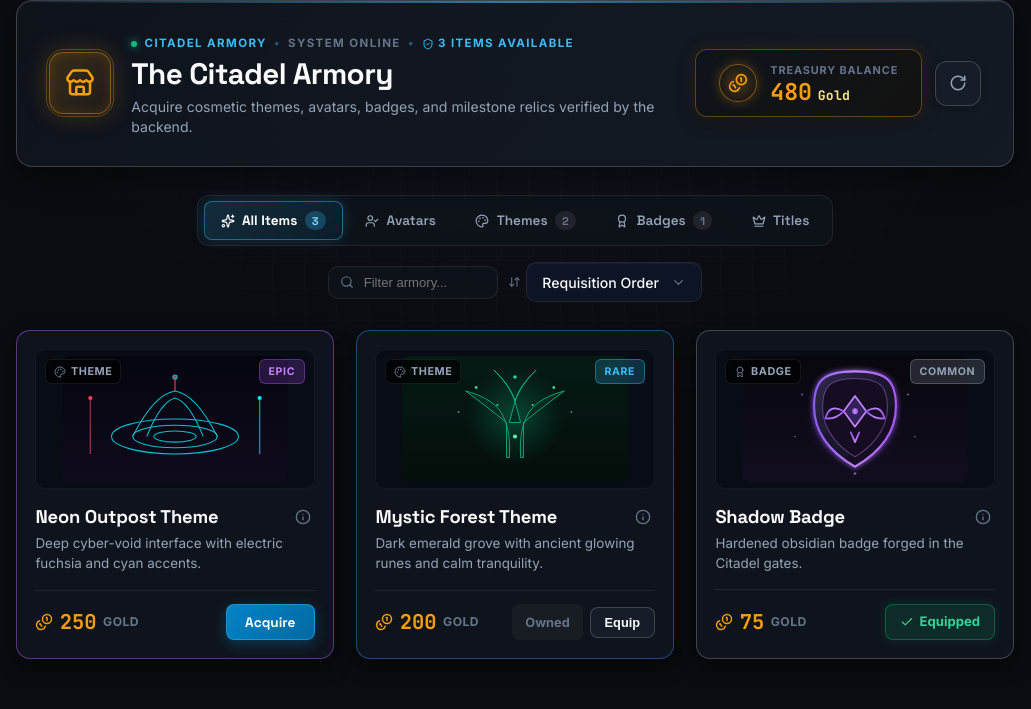
Test: Phase 5 — Shop, Inventory & Rewards System › 19. displays empty state with reset CTA when no items match search
This screenshot has width=1031, height=709.
Type "NonExistentItemXYZ" into the field named "Filter armory items by keyword" at (412, 282), box [328,266,498,299]
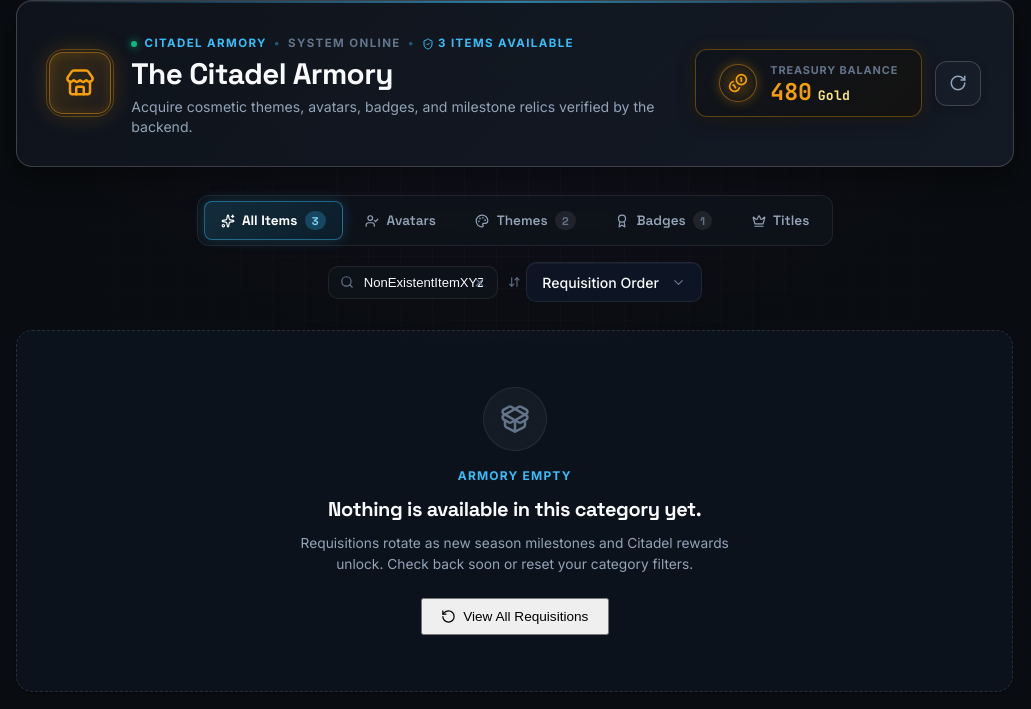
Result: the text "Armory Empty" is shown at [458,467,572,485]
Result: the heading "Nothing is available in this category yet." is shown at [328,497,702,521]
Click the button "View All Requisitions" at (515, 617), box [421,598,609,635]
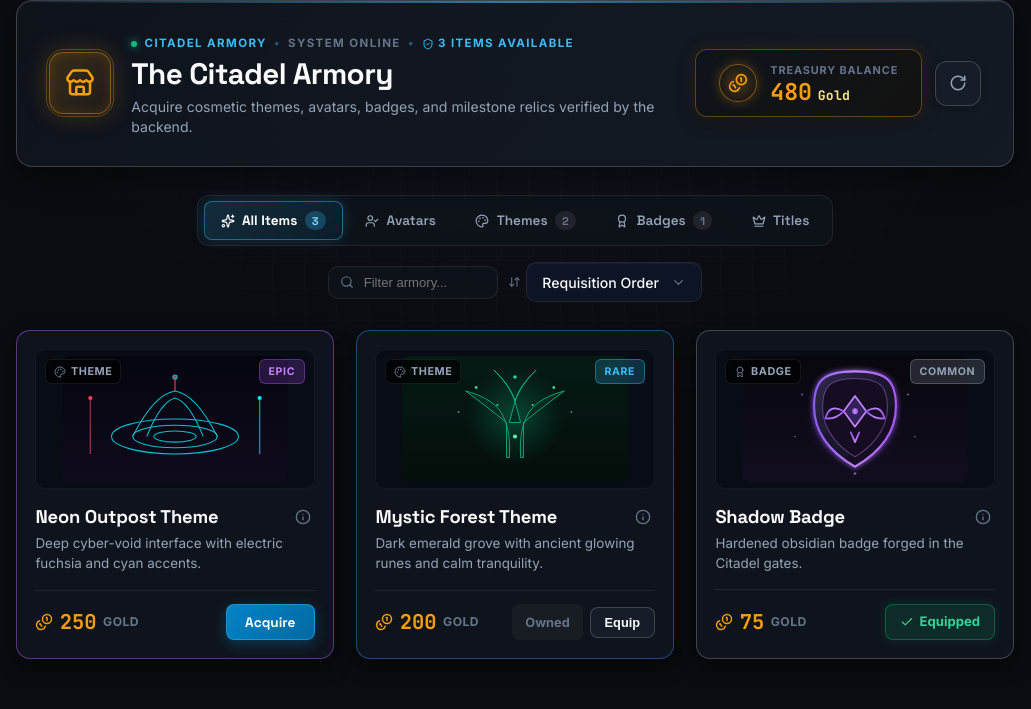
Result: the heading "Neon Outpost Theme" is shown at [36,506,219,528]
